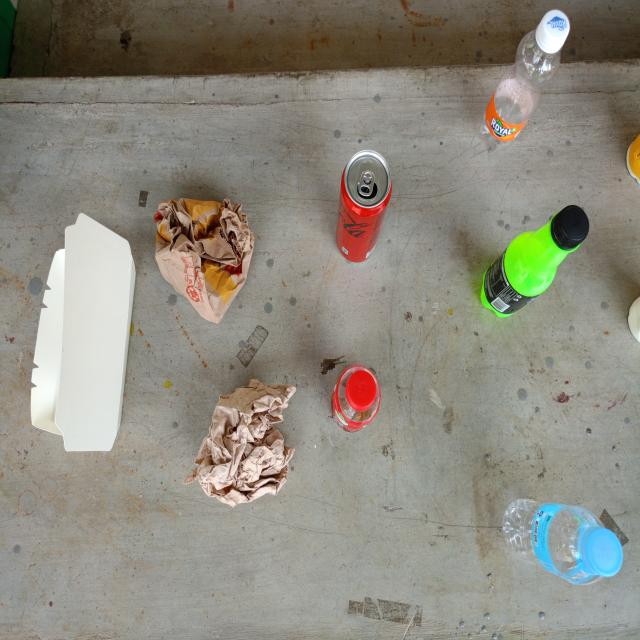Anorganik: (478, 202, 592, 318), (480, 8, 570, 150), (501, 494, 626, 591), (334, 146, 395, 268), (328, 361, 383, 439)
Organik: (26, 206, 140, 458), (184, 374, 298, 510), (151, 193, 259, 325)
